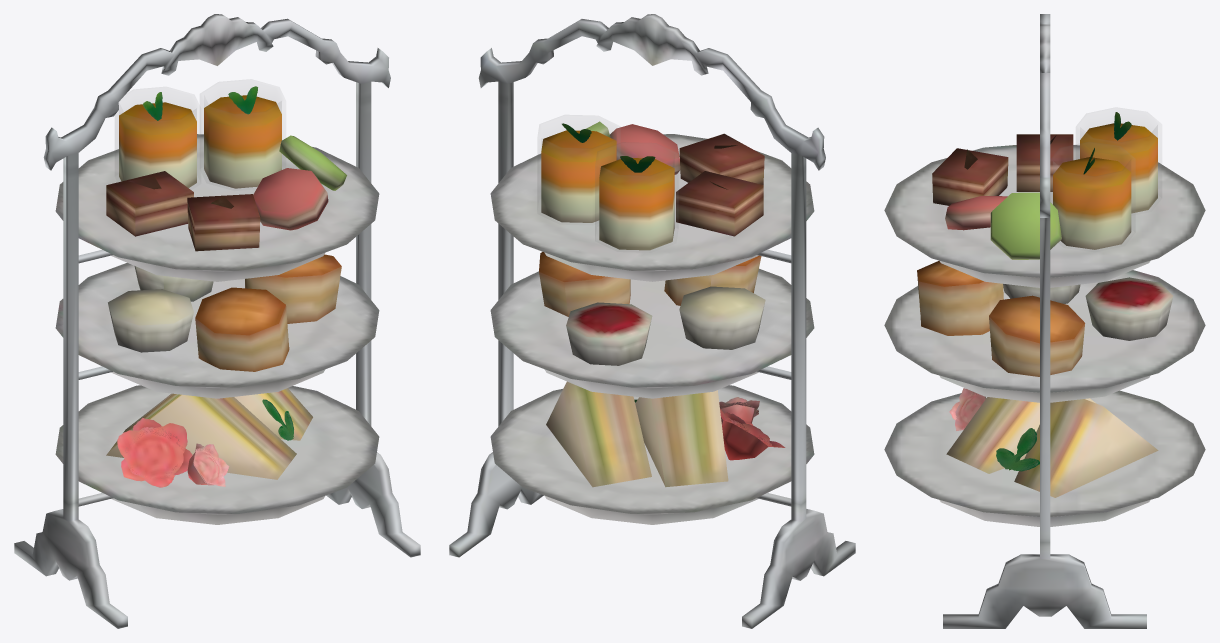
The picture shows the model from 3 angles, left to right: view 1: azimuth 30°, elevation 25°; view 2: azimuth 150°, elevation 25°; view 3: azimuth 270°, elevation 25°; orthographic projection.
Bounding box in the file's own units: 5.82 × 8.76 × 4.82.
Materials: 3 (3 with a texture image).
